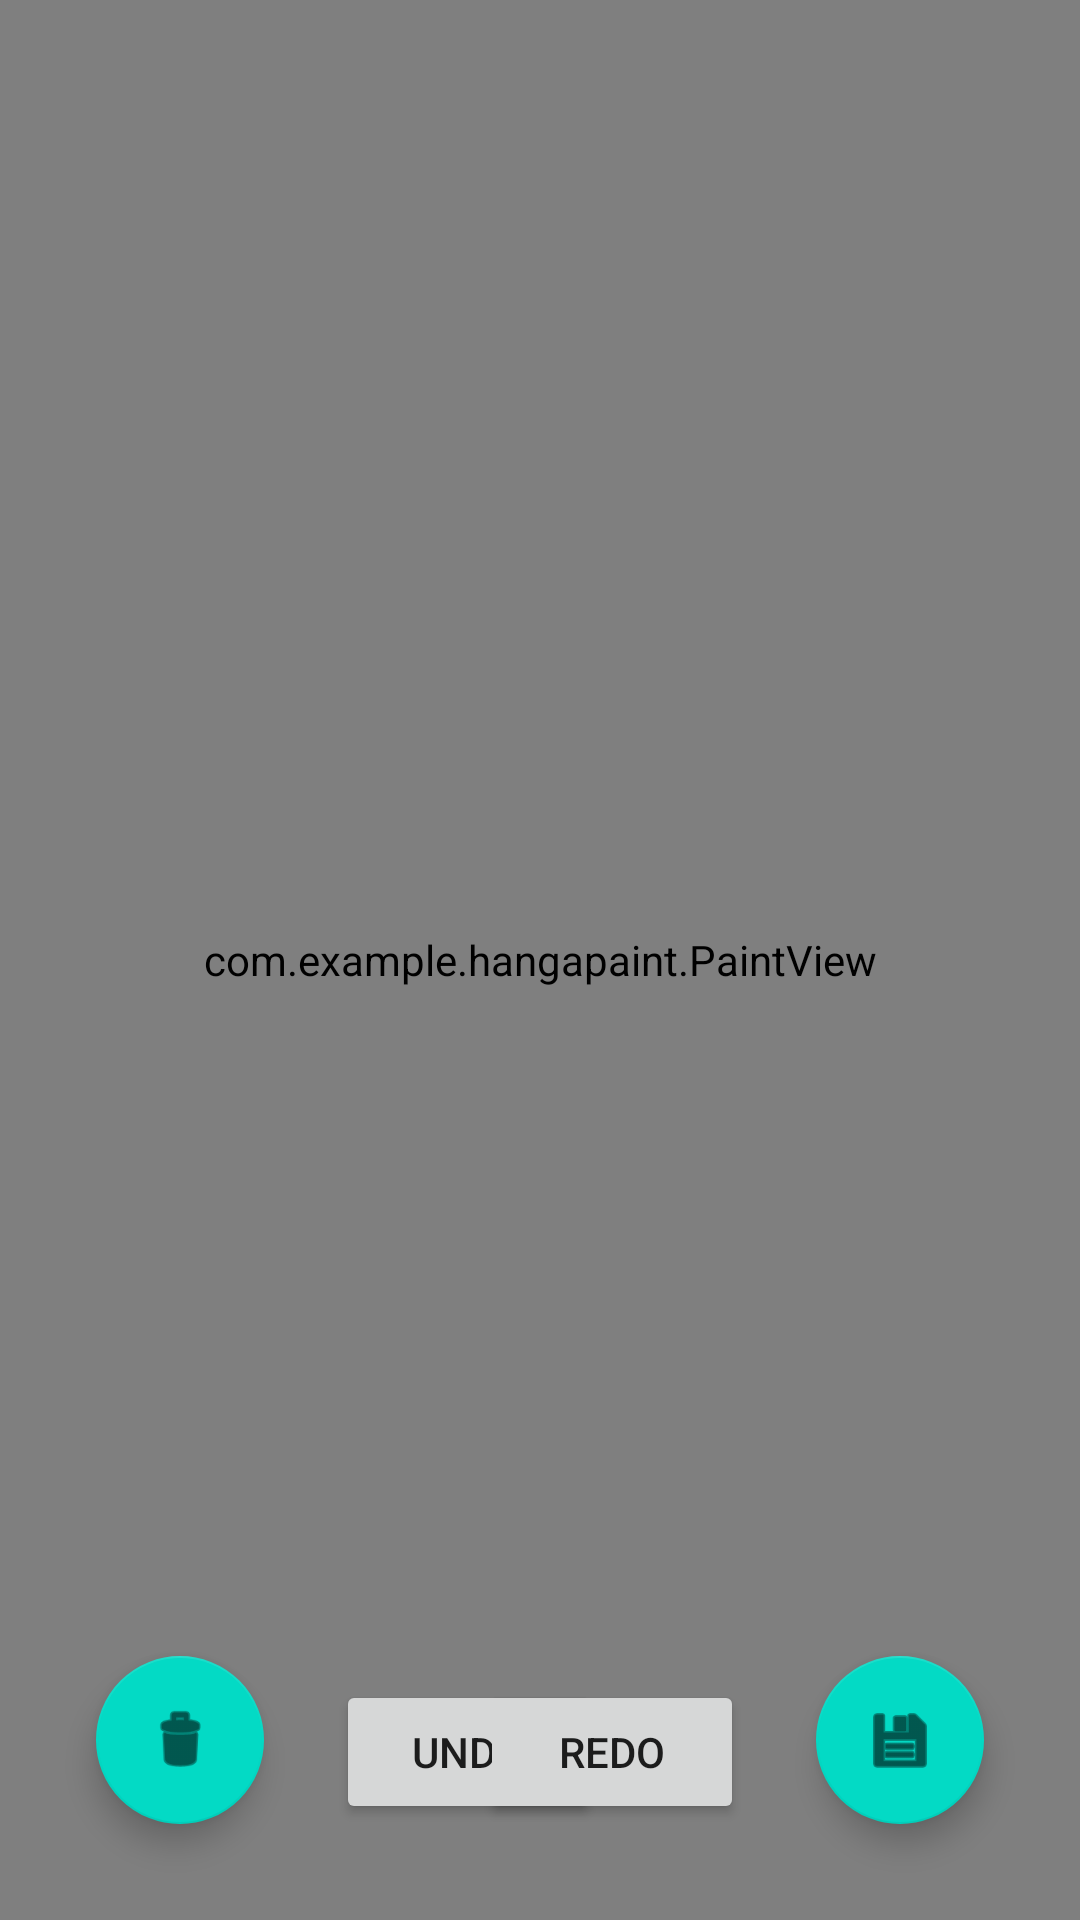

Named icons in this screenshot (1080px×1920px) and their centers, (x,y):
delete: (180,1740)
save: (900,1740)
